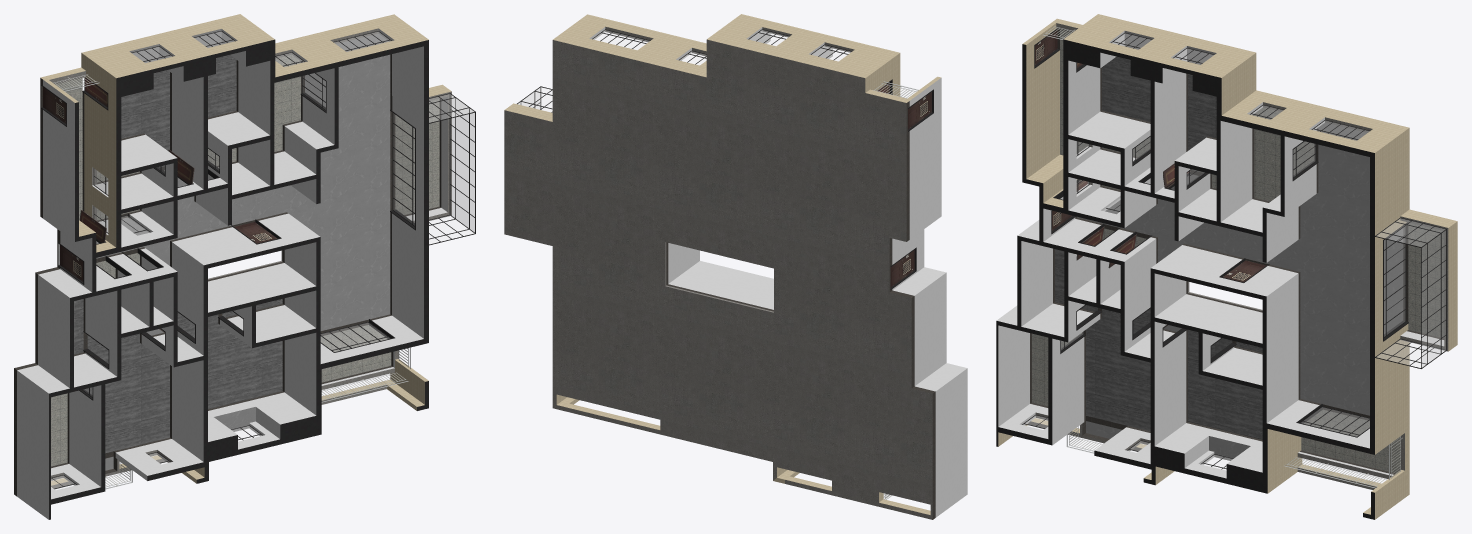
File: example.glb
3 views of the same model, side by side, from view 1: azimuth 30°, elevation 25°; view 2: azimuth 150°, elevation 25°; view 3: azimuth 330°, elevation 25° (orthographic).
Visible parts, largest first — view 1: HBY_1_A_wq, HBY_1_A_lq; view 2: HBY_1_A_wq, HBY_1_A_lq; view 3: HBY_1_A_wq, HBY_1_A_lq.
Part boxes in pixels (x1=…): HBY_1_A_wq: x1=14, y1=14, x2=475, y2=519; HBY_1_A_lq: x1=67, y1=60, x2=338, y2=487; HBY_1_A_wq: x1=504, y1=14, x2=967, y2=519; HBY_1_A_lq: x1=552, y1=60, x2=773, y2=407; HBY_1_A_wq: x1=996, y1=14, x2=1457, y2=519; HBY_1_A_lq: x1=1021, y1=72, x2=1318, y2=446.
Size of the model in its own units: 21.3 by 20.2 by 3.
Materials: 12 (12 with a texture image).
